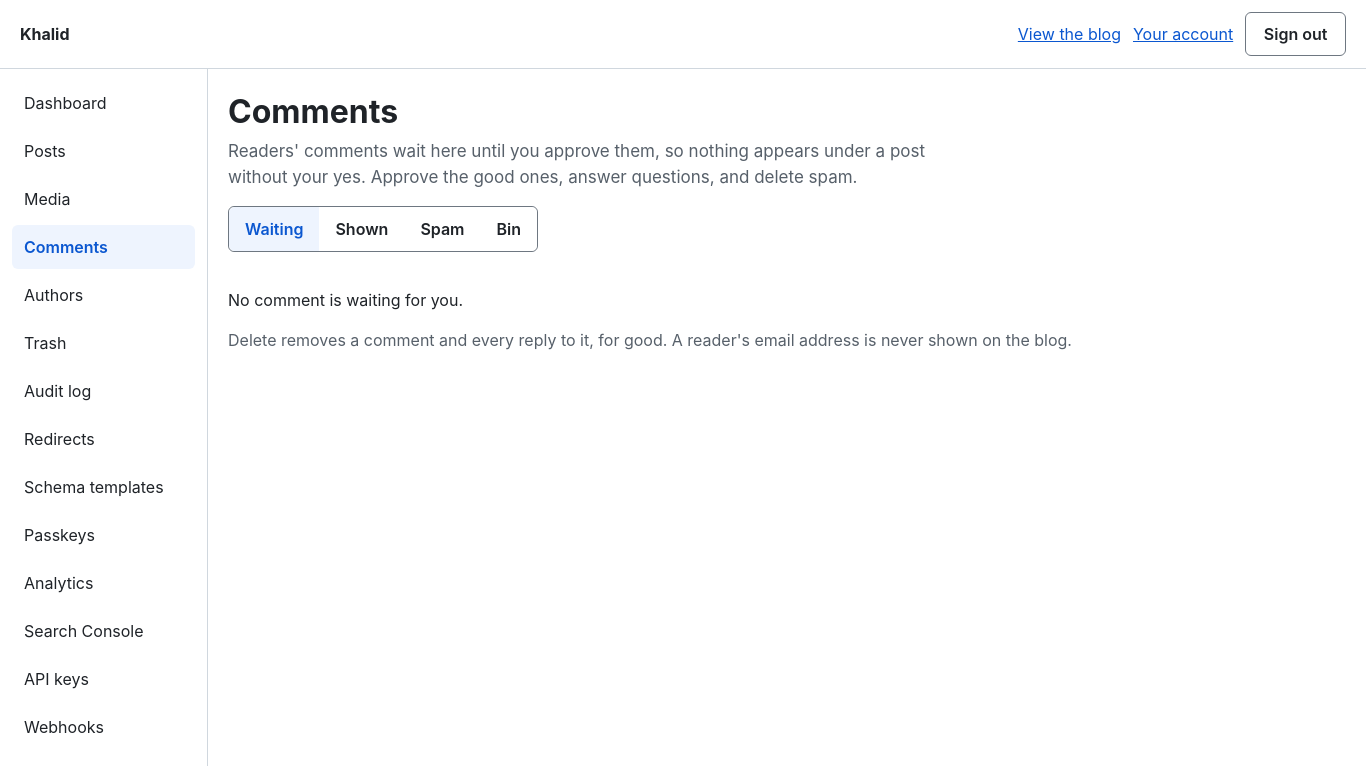
Test: the Comments screen › says when nothing waits, and shows the API's words when it refuses
The image size is (1366, 766).
Expected: the text "No comment is waiting for you." is shown, 228,290 -> 463,310
Click the button "Spam" at (442, 229), box 404,207 -> 480,251
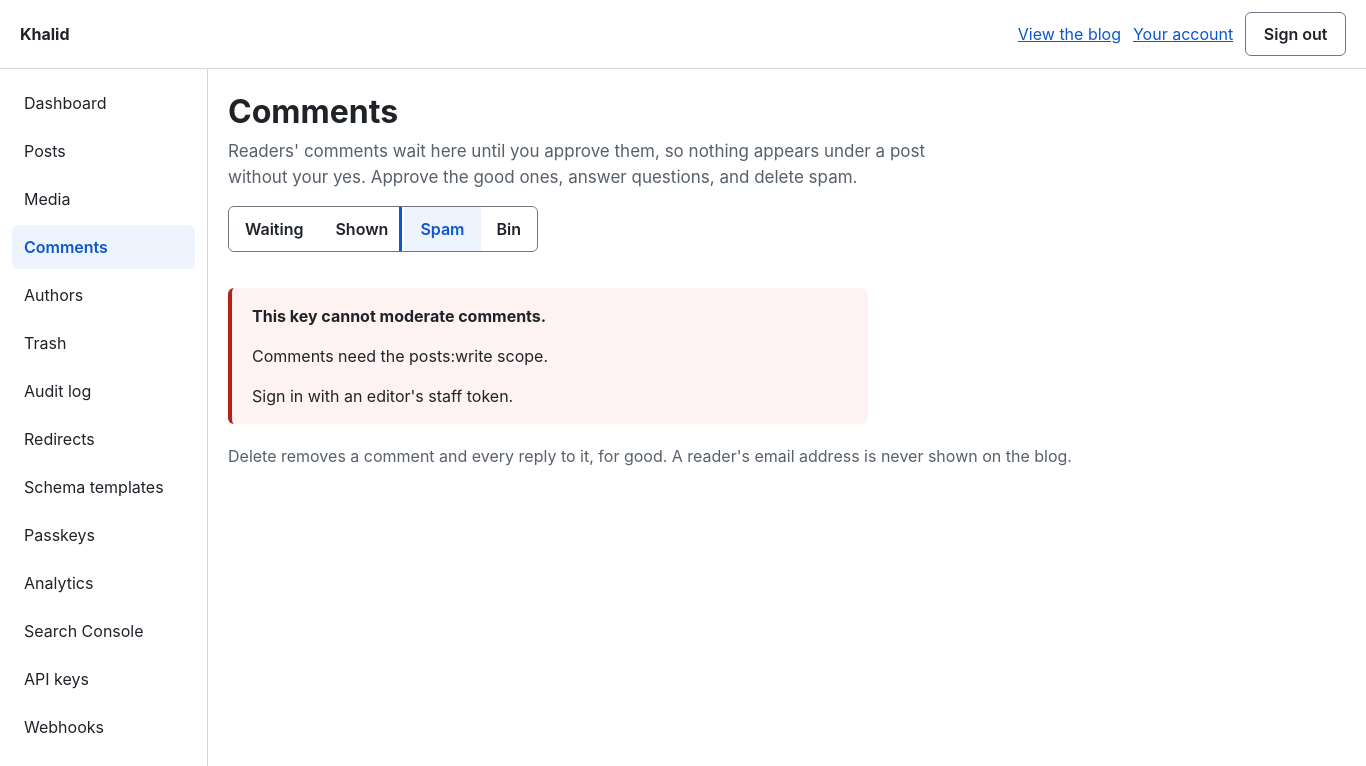
Result: the message shows "This key cannot moderate comments." at 252,306 -> 546,326
